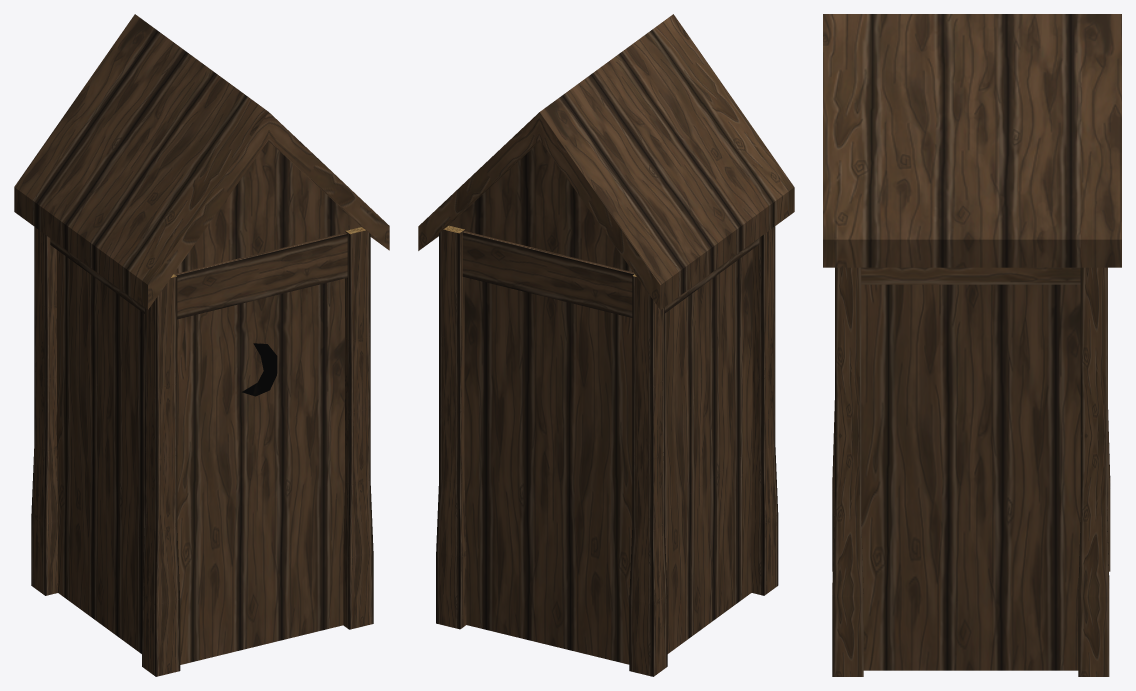
The model's file is Building_f.fbx.
3 renders of one model, left to right at view 1: azimuth 30°, elevation 25°; view 2: azimuth 150°, elevation 25°; view 3: azimuth 270°, elevation 25°, orthographic. The views are drawn at different scales.
Visible parts, largest first — view 1: Building_f; view 2: Building_f; view 3: Building_f.
Part boxes in pixels (x1=…): Building_f: x1=14, y1=14, x2=389, y2=676; Building_f: x1=418, y1=14, x2=794, y2=676; Building_f: x1=823, y1=14, x2=1121, y2=676.
Size of the model in its own units: 72.37 by 69.48 by 155.
